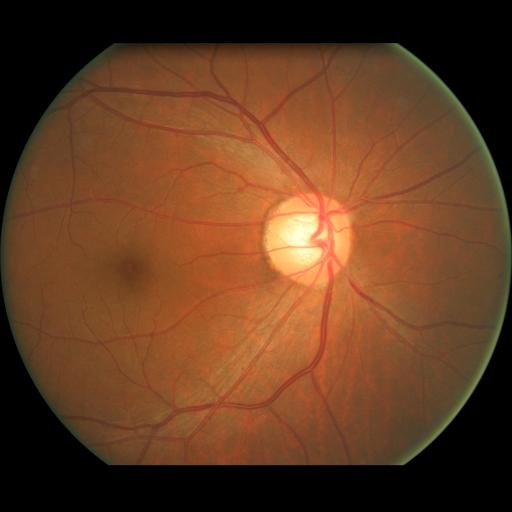Optic Cup: (281, 213, 339, 264)
Optic Disc: (264, 194, 353, 288)
